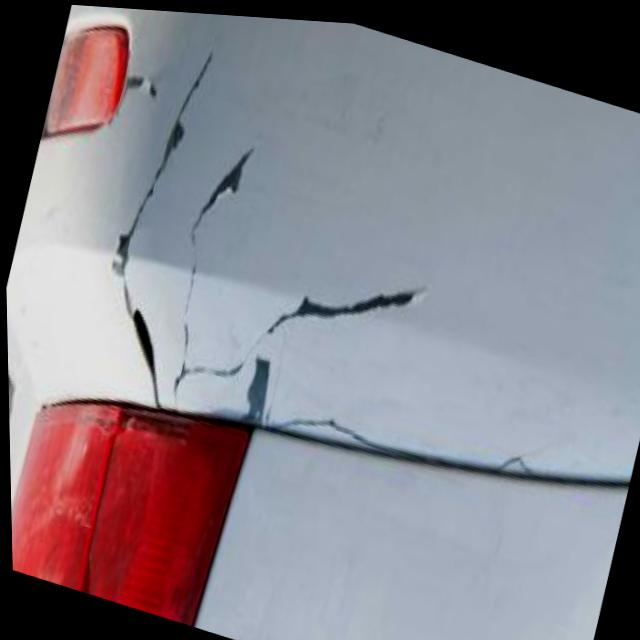Crack: (127, 300, 160, 397)
Paint-fading: (165, 143, 423, 407), (107, 38, 214, 318), (235, 354, 273, 427), (117, 71, 159, 103)
Scratch: (264, 410, 536, 483)
